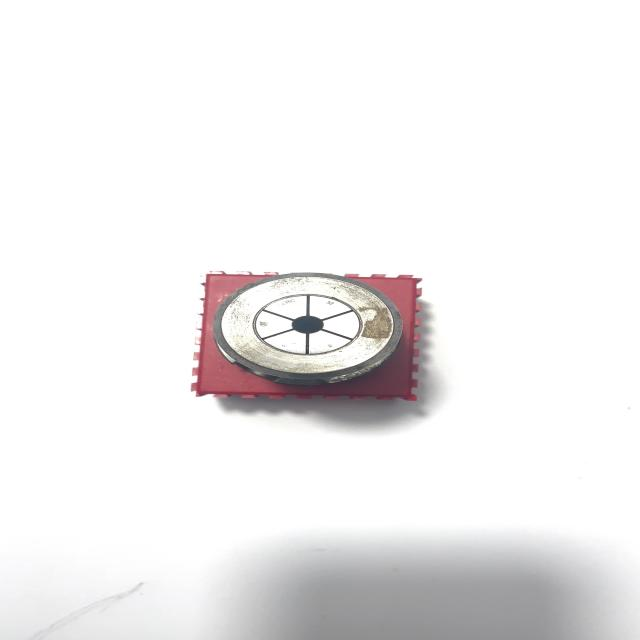Filled_Slot: (189, 272, 422, 401)
